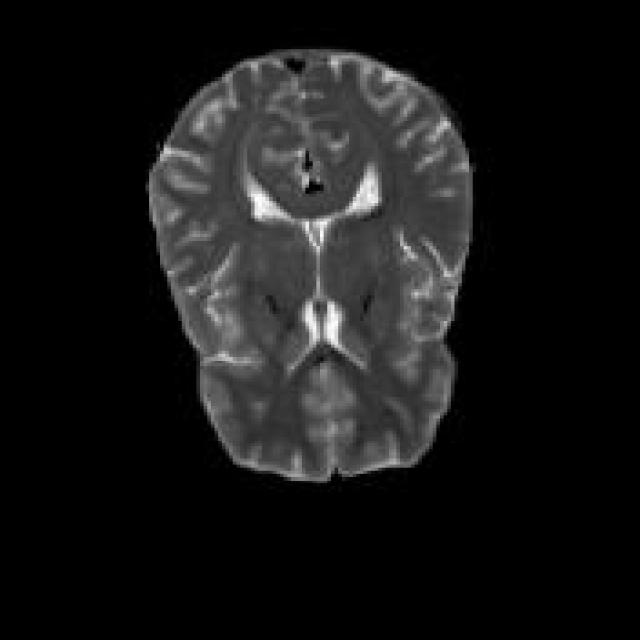CONTROL: (145, 46, 473, 483)
